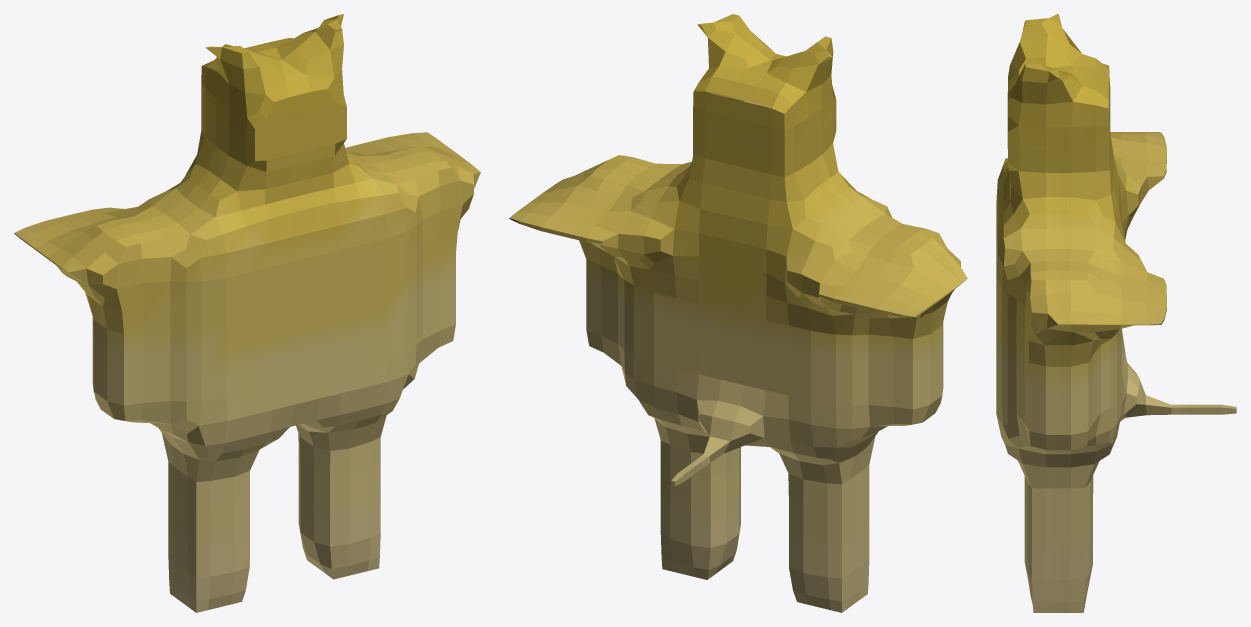
Rendered from fallenAngel.glb.
3 views of the same model, side by side, from view 1: azimuth 30°, elevation 25°; view 2: azimuth 150°, elevation 25°; view 3: azimuth 270°, elevation 25° (orthographic). The views are drawn at different scales.
Visible parts, largest first — view 1: geometry_0; view 2: geometry_0; view 3: geometry_0.
Part boxes in pixels (<box>): geometry_0: <box>14,14,480,612</box>; geometry_0: <box>509,14,967,612</box>; geometry_0: <box>996,14,1236,612</box>.
Bounding box in the file's own units: 0.7553 × 0.963 × 0.3981.
1 material, 1 textured.
